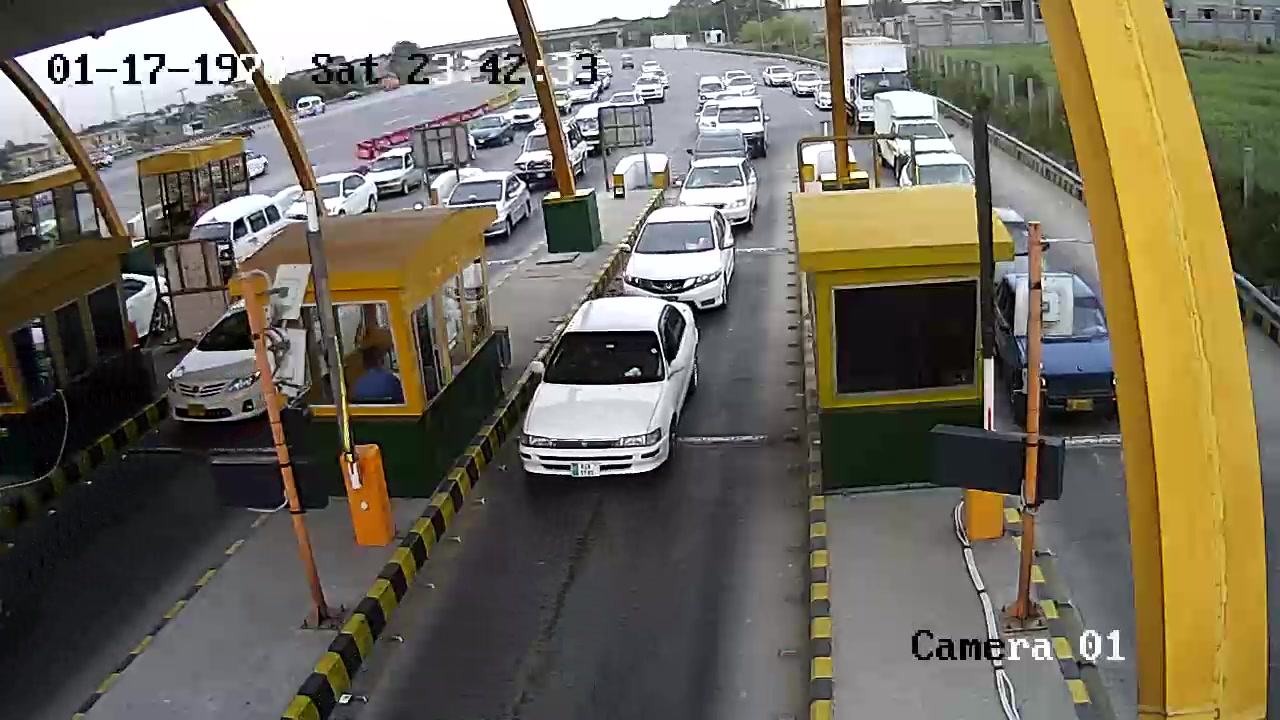F1: (503, 295, 721, 502)
